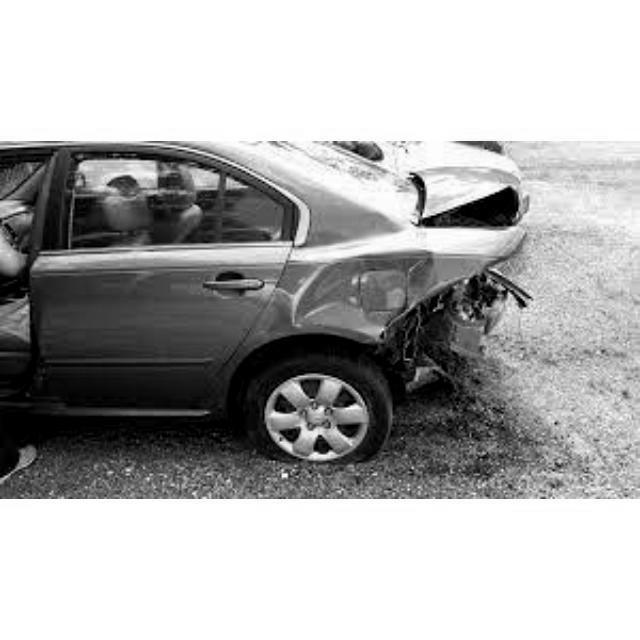quaterpanel-dent: (287, 233, 440, 350)
